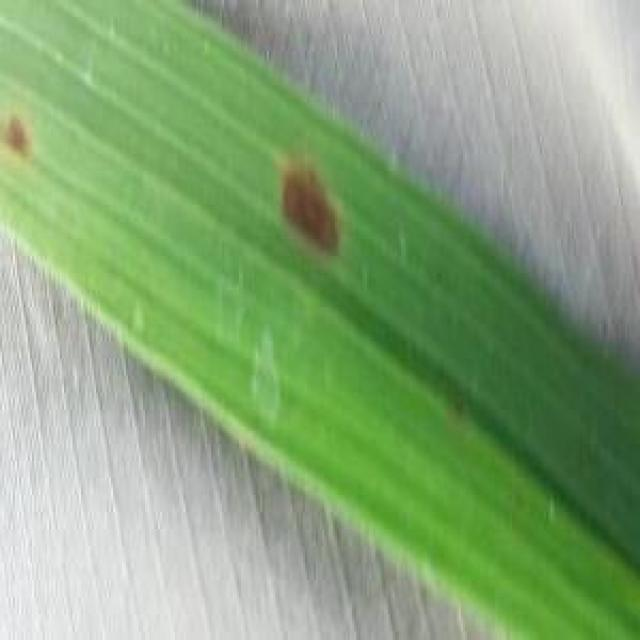brownspots: (268, 158, 354, 254), (4, 110, 32, 150)
